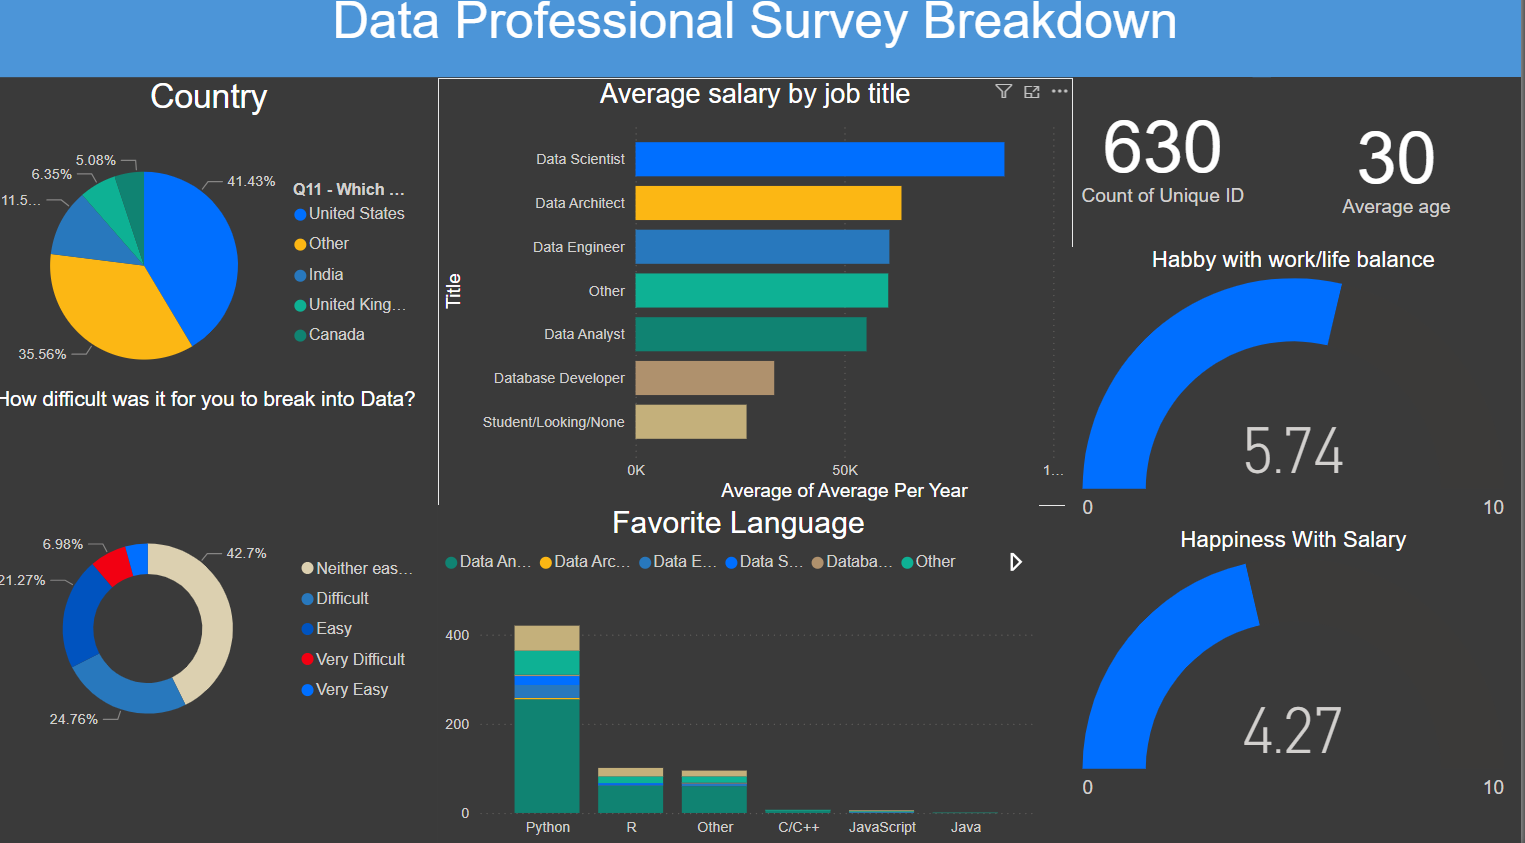

The page's visual inventory and layout, read from the dashboard file:
{"tool":"powerbi","page":{"name":"Page 1","canvas":[1280,720],"ordinal":0},"visuals":[{"type":"textbox","box":[0,0,1280,77.2],"z":0},{"type":"card","fields":{"Values":["Count(Data Professional Survey.Unique ID)"]},"box":[905.5,77.2,150.2,123.5],"z":1000},{"type":"card","fields":{"Values":["Avg(Data Professional Survey.Q10 - Current Age)"]},"box":[1055.7,256.2,224.3,123.3],"z":2000},{"type":"barChart","title":"Average salary by job title","fields":{"Category":["Data Professional Survey.Q1 - Which Title Best Fits your Current Role?.1"],"Y":["Avg(Data Professional Survey.Average Per Year)"],"Series":["Data Professional Survey.Q1 - Which Title Best Fits your Current Role?.1"]},"box":[375.3,77.3,529.9,357.7],"z":3000},{"type":"columnChart","title":"Favorite Language","fields":{"Category":["Data Professional Survey.Q5 - Favorite Programming Language.1"],"Y":["CountNonNull(Data Professional Survey.Unique ID)"],"Series":["Data Professional Survey.Q1 - Which Title Best Fits your Current Role?.1"]},"box":[375.3,434,502.1,285.6],"z":4000},{"type":"pieChart","title":"Country","fields":{"Category":["Data Professional Survey.Q11 - Which Country do you live in?.1"],"Y":["CountNonNull(Data Professional Survey.Unique ID)"]},"box":[0,77.3,367,282.5],"z":5000},{"type":"gauge","title":"Habby with work/life balance","fields":{"Y":["Avg(Data Professional Survey.Q6 - How Happy are you in your Current Position with the following? (Work/Life Balance))"],"MinValue":["Min(Data Professional Survey.Q6 - How Happy are you in your Current Position with the following? (Work/Life Balance))"],"MaxValue":["Max(Data Professional Survey.Q6 - How Happy are you in your Current Position with the following? (Work/Life Balance))1"]},"box":[899,218.6,381.4,234],"z":6000},{"type":"gauge","title":"Happiness With Salary","fields":{"Y":["Avg(Data Professional Survey.Q6 - How Happy are you in your Current Position with the following? (Salary))"],"MinValue":["Min(Data Professional Survey.Q6 - How Happy are you in your Current Position with the following? (Salary))"],"MaxValue":["Max(Data Professional Survey.Q6 - How Happy are you in your Current Position with the following? (Salary))"]},"box":[899,452.6,381.4,234],"z":7000},{"type":"donutChart","title":"How difficult was it for you to break into Data?","fields":{"Category":["Data Professional Survey.Q7 - How difficult was it for you to break into Data?"],"Y":["CountNonNull(Data Professional Survey.Q9 - Male/Female?)"]},"box":[0,336.1,375.3,383.5],"z":8000},{"type":"card","fields":{"Values":["Avg(Data Professional Survey.Q10 - Current Age)"]},"box":[1070.5,76.9,209.5,141.8],"z":9000}]}

Visuals, with their boxes in screenshot pixels (x1, y1, x2, y2), scaled from the page's 1280x720 canvas onto the 1525x843 screenshot:
textbox: locate(0, 0, 1524, 90)
card - Count(Data Professional Survey.Unique ID): locate(1079, 90, 1258, 235)
card - Avg(Data Professional Survey.Q10 - Current Age): locate(1258, 300, 1524, 444)
"Average salary by job title" barChart: locate(447, 91, 1078, 509)
"Favorite Language" columnChart: locate(447, 508, 1045, 842)
"Country" pieChart: locate(0, 91, 437, 421)
"Habby with work/life balance" gauge: locate(1071, 256, 1524, 530)
"Happiness With Salary" gauge: locate(1071, 530, 1524, 804)
"How difficult was it for you to break into Data?" donutChart: locate(0, 394, 447, 842)
card - Avg(Data Professional Survey.Q10 - Current Age): locate(1275, 90, 1524, 256)
